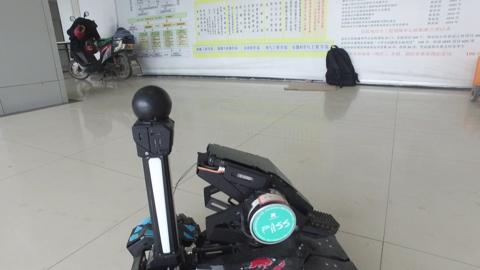bag: (317, 38, 369, 99)
chariot: (98, 89, 360, 270)
